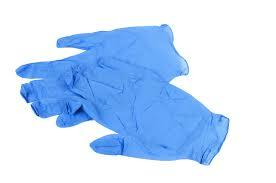Glove: (17, 58, 227, 164), (57, 24, 187, 80)
